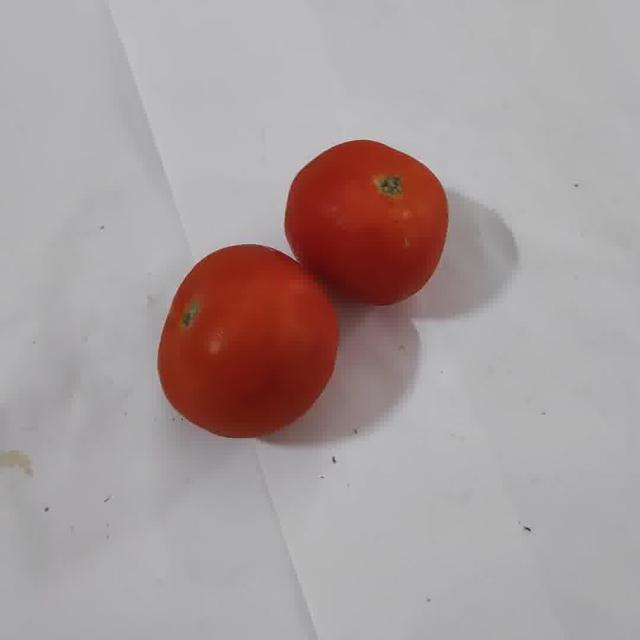Tomato: (158, 245, 338, 437), (285, 139, 449, 305)
